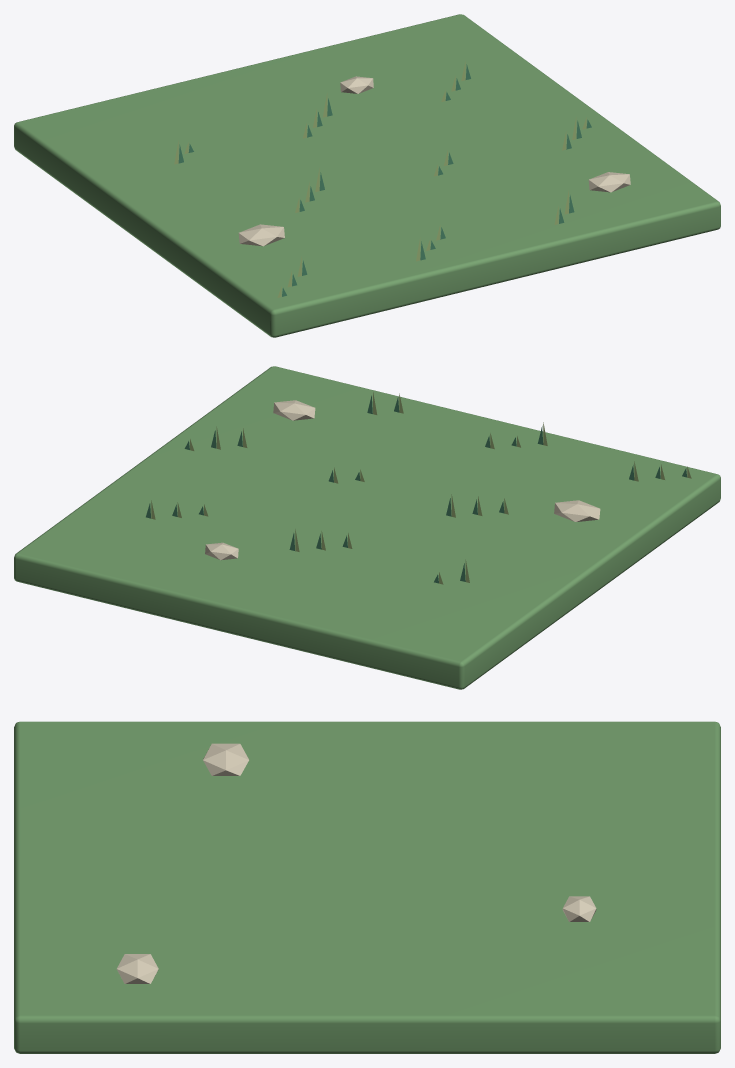
Rendered from SM_Terrain_Grass_4m.fbx.
The picture shows the model from 3 angles, top to bottom: view 1: azimuth 30°, elevation 25°; view 2: azimuth 150°, elevation 25°; view 3: azimuth 270°, elevation 25°; orthographic projection. The views are drawn at different scales.
Visible parts, largest first — view 1: SM_Terrain_Grass_4m; view 2: SM_Terrain_Grass_4m; view 3: SM_Terrain_Grass_4m.
Part boxes in pixels (left/top/right/bottom): SM_Terrain_Grass_4m: left=14, top=14, right=720, bottom=337; SM_Terrain_Grass_4m: left=14, top=366, right=720, bottom=689; SM_Terrain_Grass_4m: left=14, top=721, right=720, bottom=1053.
Size of the model in its own units: 4 by 0.445 by 4.
